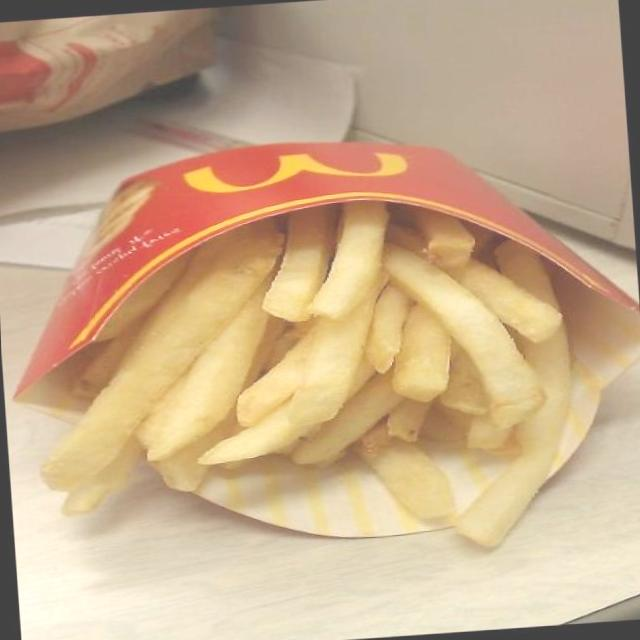French Fries: (78, 206, 598, 558)
